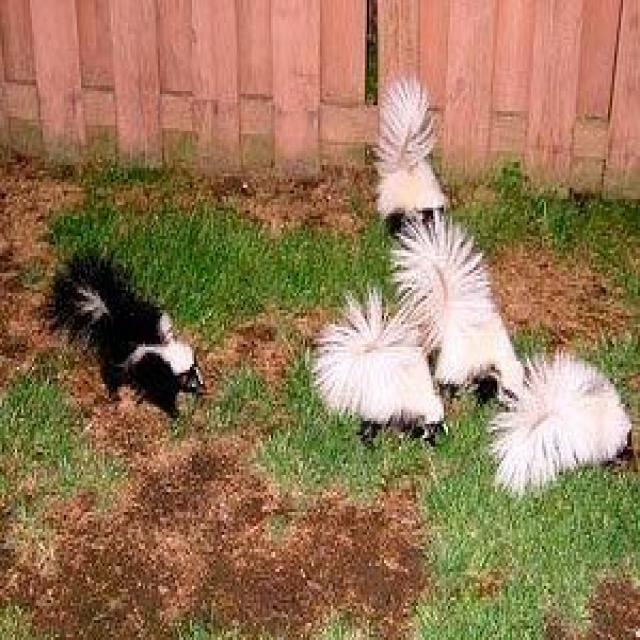Skunk: (45, 227, 235, 431)
